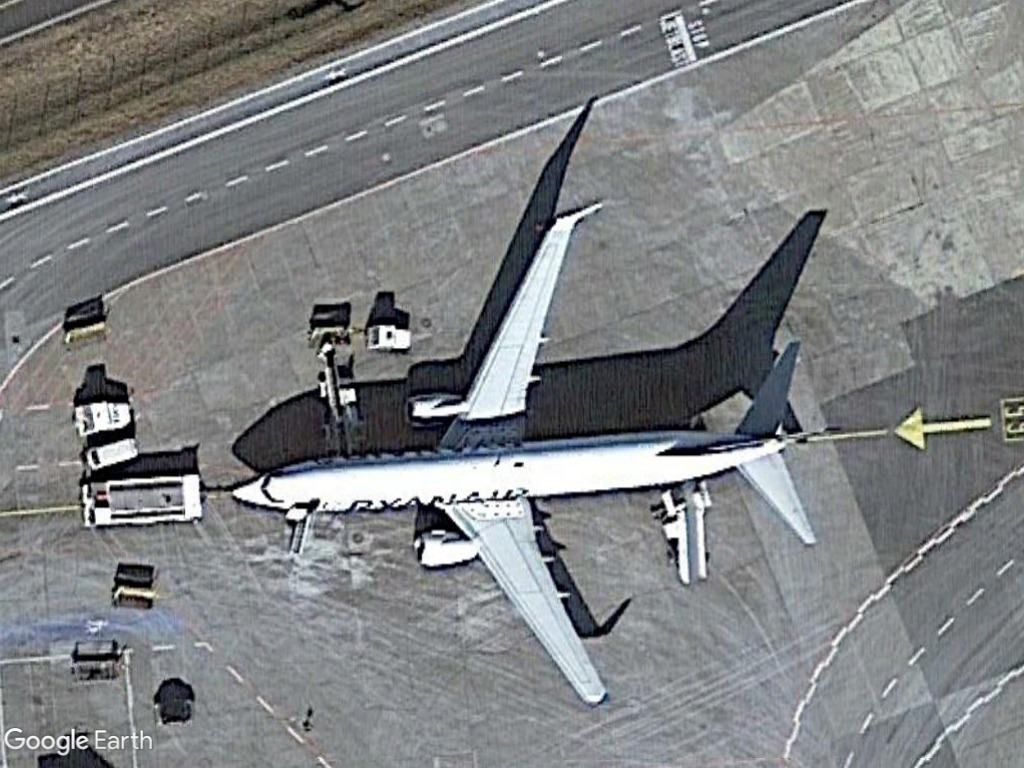airliner: (222, 201, 832, 706)
pushbacktruck: (80, 471, 212, 533)
stairtruck: (657, 484, 718, 587)
